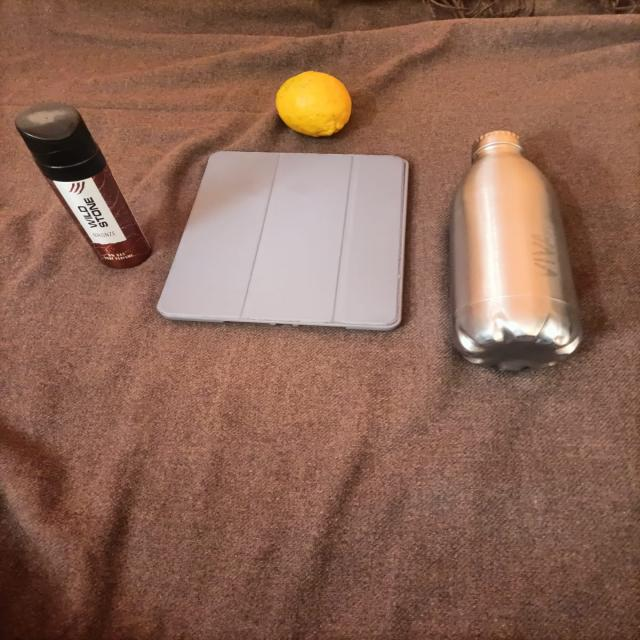bottle: (436, 128, 598, 391)
orange: (266, 66, 367, 141)
spray: (0, 94, 155, 286)
tablet: (160, 137, 422, 350)
